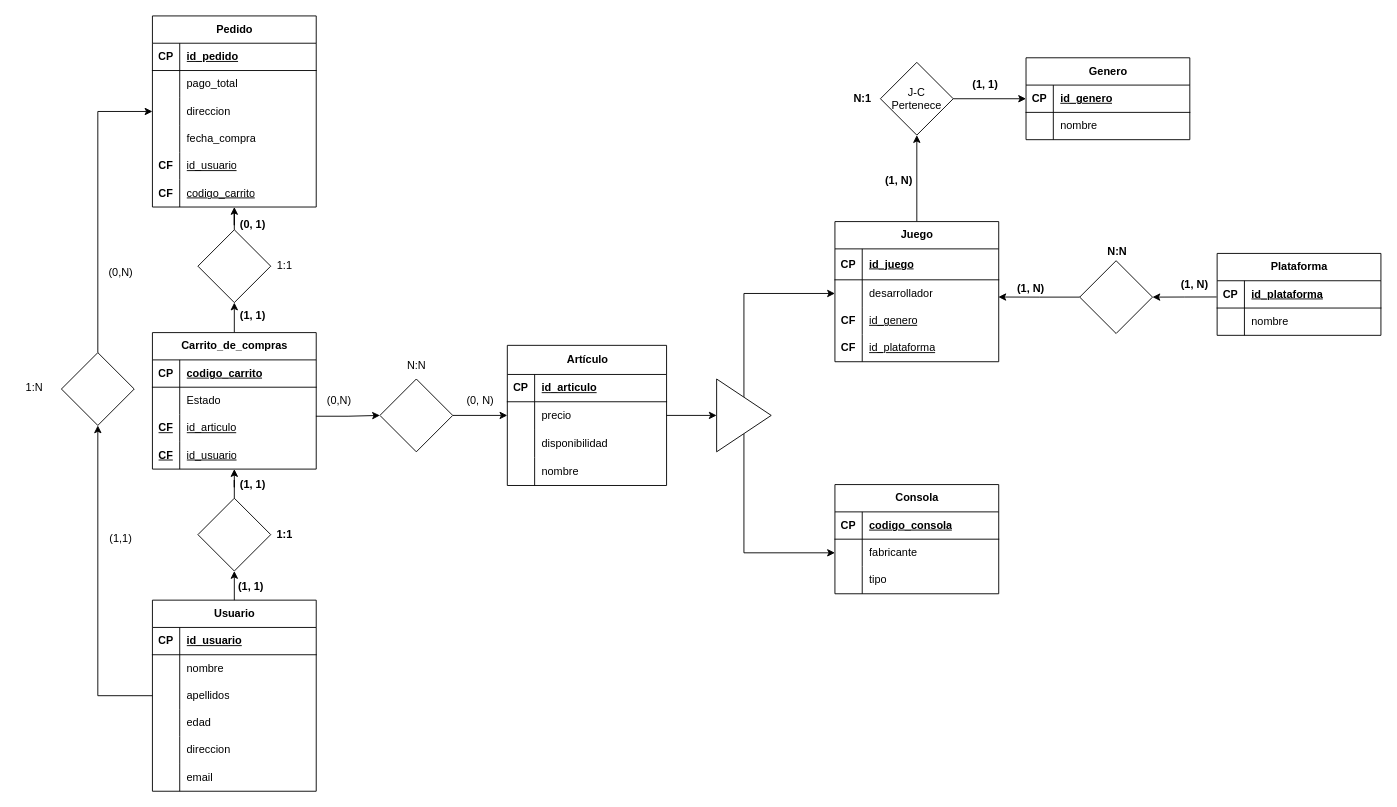
Some shapes in this 1397 by 807 pixel diagram are drawn without their labels. The box of each missing label's shape, as (x1, y1, x2, y2) in pixels:
C-(J/C) Contiene: (379, 378, 453, 452)
C-P Pertenece: (197, 229, 271, 303)
J-P Pertenece: (1079, 260, 1153, 334)
U-C Tiene: (197, 497, 271, 571)
U-P Paga: (61, 352, 134, 425)
